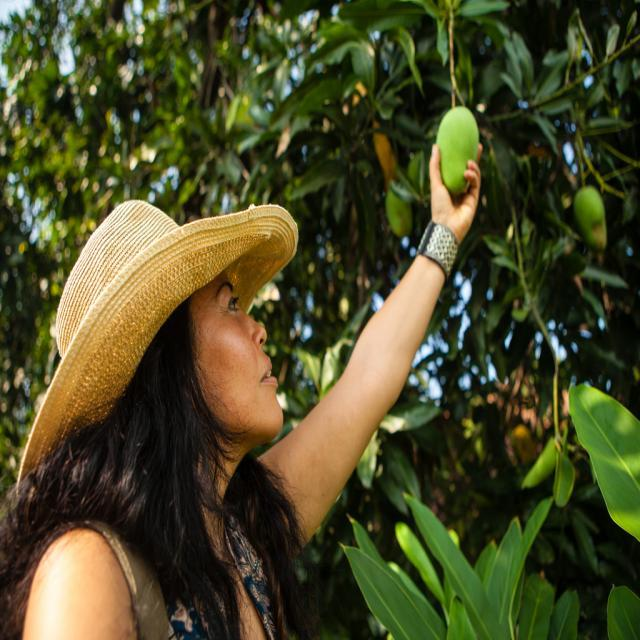Mango: (437, 103, 482, 203), (575, 188, 605, 248), (386, 192, 411, 239)
